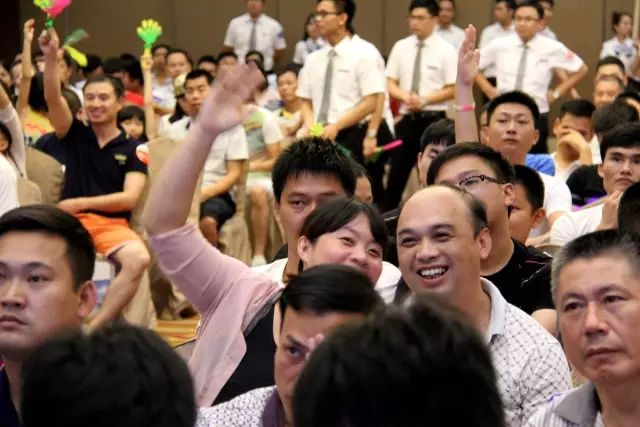handsup: (130, 56, 357, 376), (39, 18, 160, 343)
